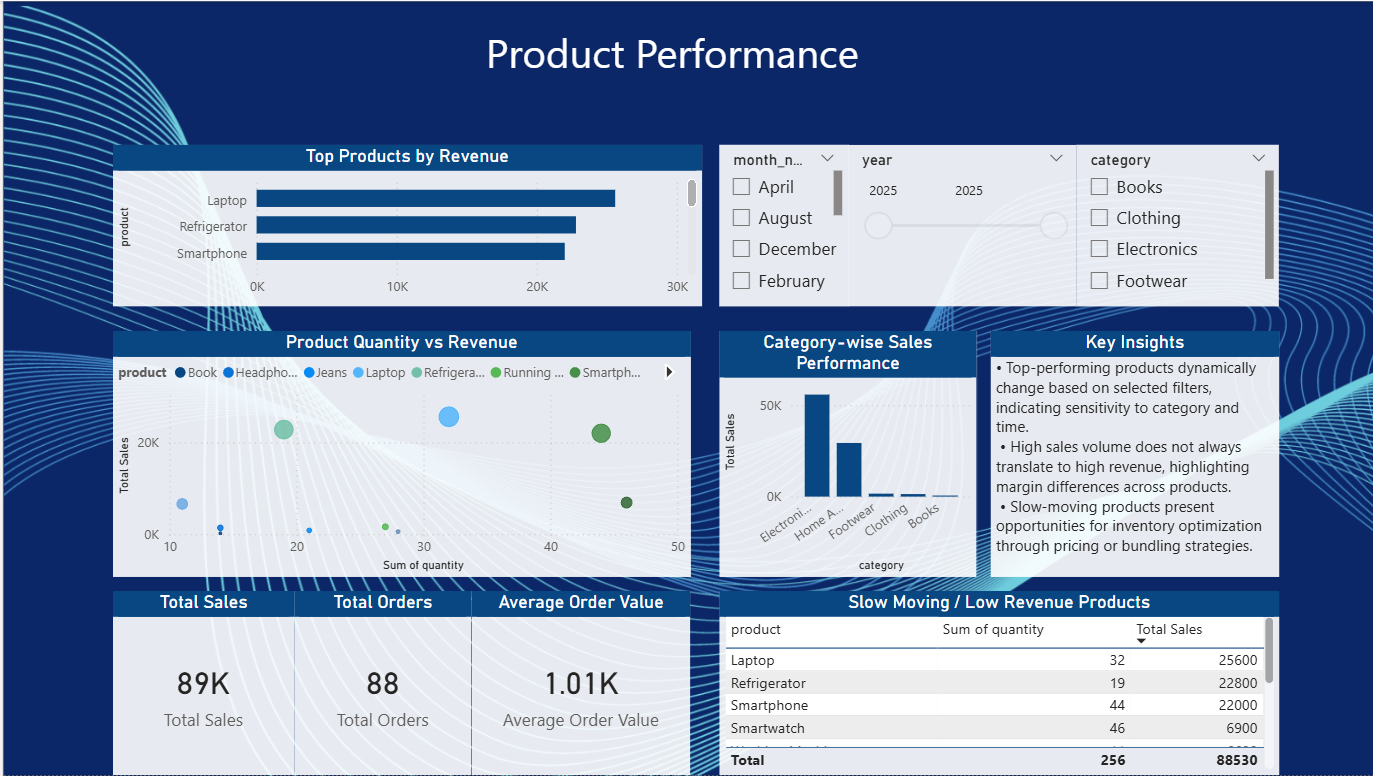

The page's visual inventory and layout, read from the dashboard file:
{"tool":"powerbi","page":{"name":"Product Performance","canvas":[1280,720],"ordinal":2},"visuals":[{"type":"card","title":"Total Sales","fields":{"Values":["final_amazon_sales.Total Sales"]},"box":[102.3,548.8,168.6,170.9],"z":0},{"type":"card","title":"Total Orders ","fields":{"Values":["final_amazon_sales.Total Orders"]},"box":[270.9,548.8,165.1,170.9],"z":1000},{"type":"card","title":"Average Order Value","fields":{"Values":["final_amazon_sales.Average Order Value"]},"box":[436,548.8,203.5,170.9],"z":2000},{"type":"clusteredBarChart","title":"Top Products by Revenue","fields":{"Category":["final_amazon_sales.product"],"Y":["final_amazon_sales.Total Sales"]},"box":[102.3,133.7,547.7,150],"z":3000},{"type":"scatterChart","title":"Product Quantity vs Revenue","fields":{"X":["Sum(final_amazon_sales.quantity)"],"Y":["final_amazon_sales.Total Sales"],"Series":["final_amazon_sales.product"],"Size":["final_amazon_sales.Total Sales"]},"box":[102.3,307,537.2,229.1],"z":4000},{"type":"clusteredColumnChart","title":"Category-wise Sales Performance","fields":{"Category":["final_amazon_sales.category"],"Y":["final_amazon_sales.Total Sales"]},"box":[666.3,307,239.5,229.1],"z":5000},{"type":"tableEx","title":"Slow Moving / Low Revenue Products","fields":{"Values":["final_amazon_sales.product","Sum(final_amazon_sales.quantity)","final_amazon_sales.Total Sales"]},"box":[666.3,548.8,520.9,170.9],"z":6000},{"type":"slicer","fields":{"Values":["final_amazon_sales.category"]},"box":[998.8,133.7,188.4,150],"z":7000},{"type":"slicer","fields":{"Values":["final_amazon_sales.year"]},"box":[786,133.7,212.8,150],"z":8000},{"type":"slicer","fields":{"Values":["final_amazon_sales.month_name"]},"box":[666.3,133.7,119.8,150],"z":9000},{"type":"textbox","box":[100,17.4,1045.4,91.9],"z":10000},{"type":"textbox","title":"Key Insights","box":[918.6,307,268.6,229.1],"z":10001}]}

Visuals, with their boxes in screenshot pixels (x1, y1, x2, y2), scaled from the page's 1280x720 canvas onto the 1373x776 screenshot:
"Total Sales" card: select_region(110, 591, 291, 775)
"Total Orders " card: select_region(291, 591, 468, 775)
"Average Order Value" card: select_region(468, 591, 686, 775)
"Top Products by Revenue" clusteredBarChart: select_region(110, 144, 697, 306)
"Product Quantity vs Revenue" scatterChart: select_region(110, 331, 686, 578)
"Category-wise Sales Performance" clusteredColumnChart: select_region(715, 331, 972, 578)
"Slow Moving / Low Revenue Products" tableEx: select_region(715, 591, 1273, 775)
slicer - final_amazon_sales.category: select_region(1071, 144, 1273, 306)
slicer - final_amazon_sales.year: select_region(843, 144, 1071, 306)
slicer - final_amazon_sales.month_name: select_region(715, 144, 843, 306)
textbox: select_region(107, 19, 1229, 118)
"Key Insights" textbox: select_region(985, 331, 1273, 578)
